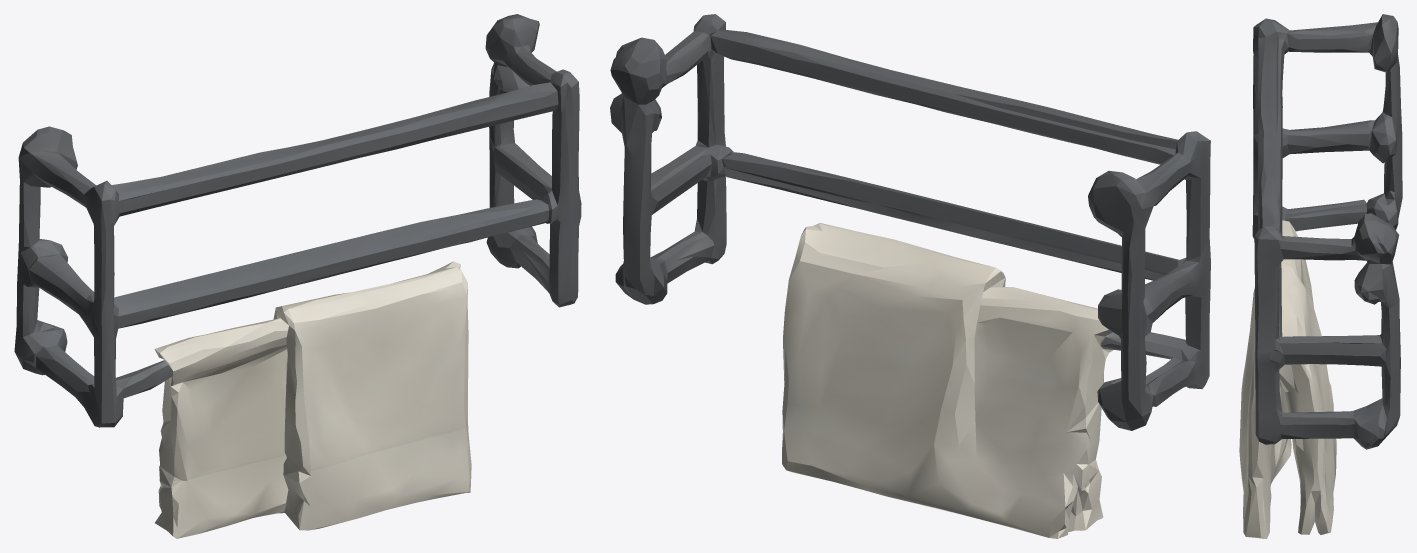
The model's file is towel-bar.glb.
3 views of the same model, side by side, from view 1: azimuth 30°, elevation 25°; view 2: azimuth 150°, elevation 25°; view 3: azimuth 270°, elevation 25° (orthographic). The views are drawn at different scales.
Parts seen in each view (by area): view 1: model; view 2: model; view 3: model.
Boxes of the visible parts, x1,y1,x2,y2 form: model: [14, 14, 581, 538]; model: [610, 14, 1210, 538]; model: [1239, 14, 1402, 538].
Size of the model in its own units: 1.9 by 1.41 by 0.5638.
Materials: 1 (1 with a texture image).
